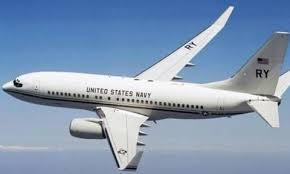maybay_dansu: (6, 16, 290, 168)
